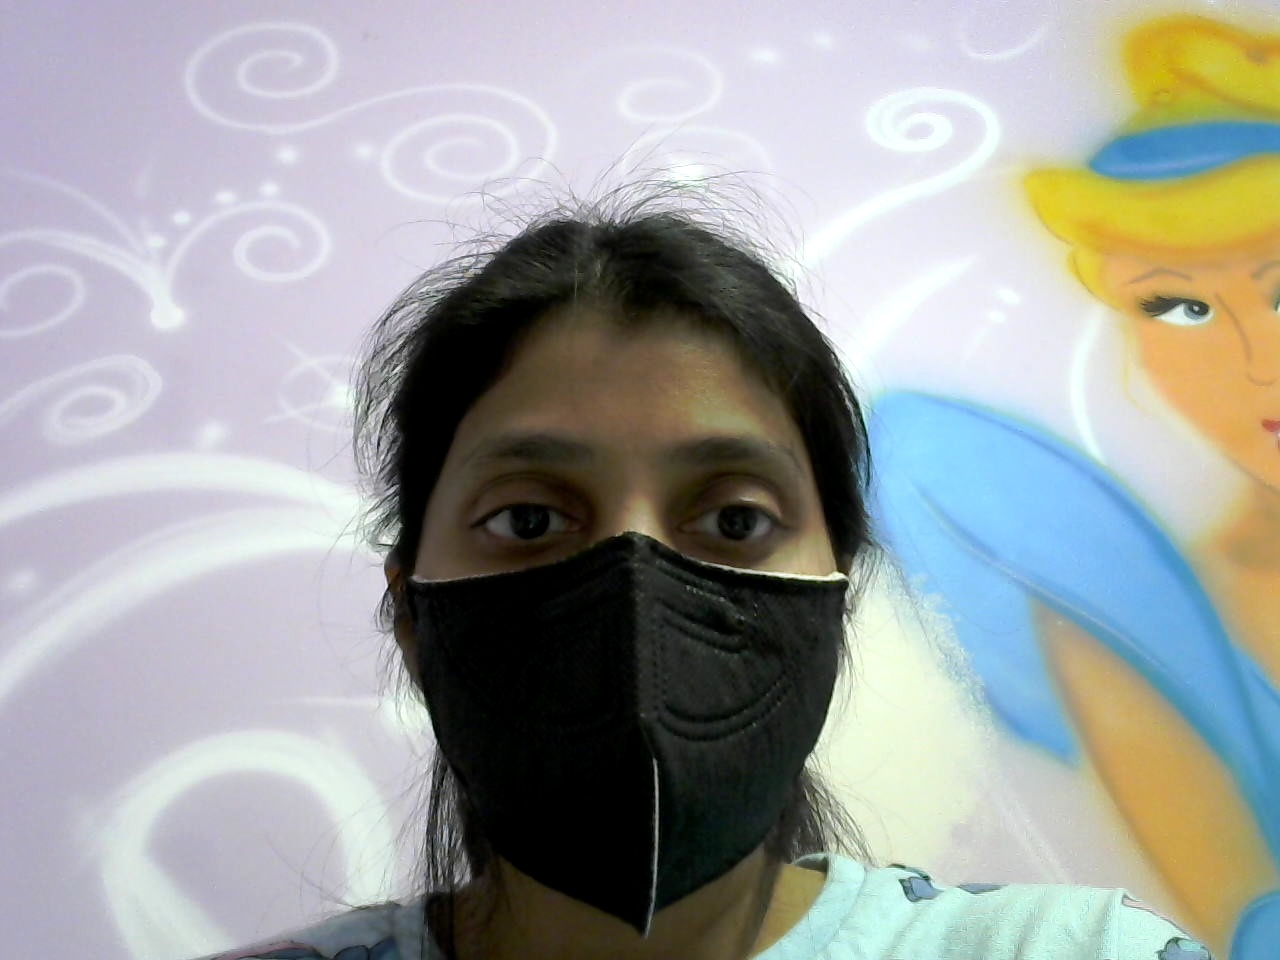mask: (353, 537, 877, 921)
